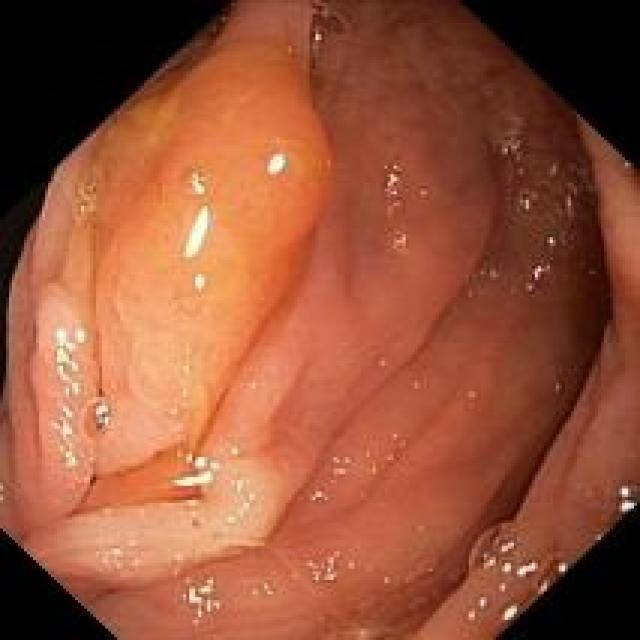Polyps: (75, 4, 331, 512)
